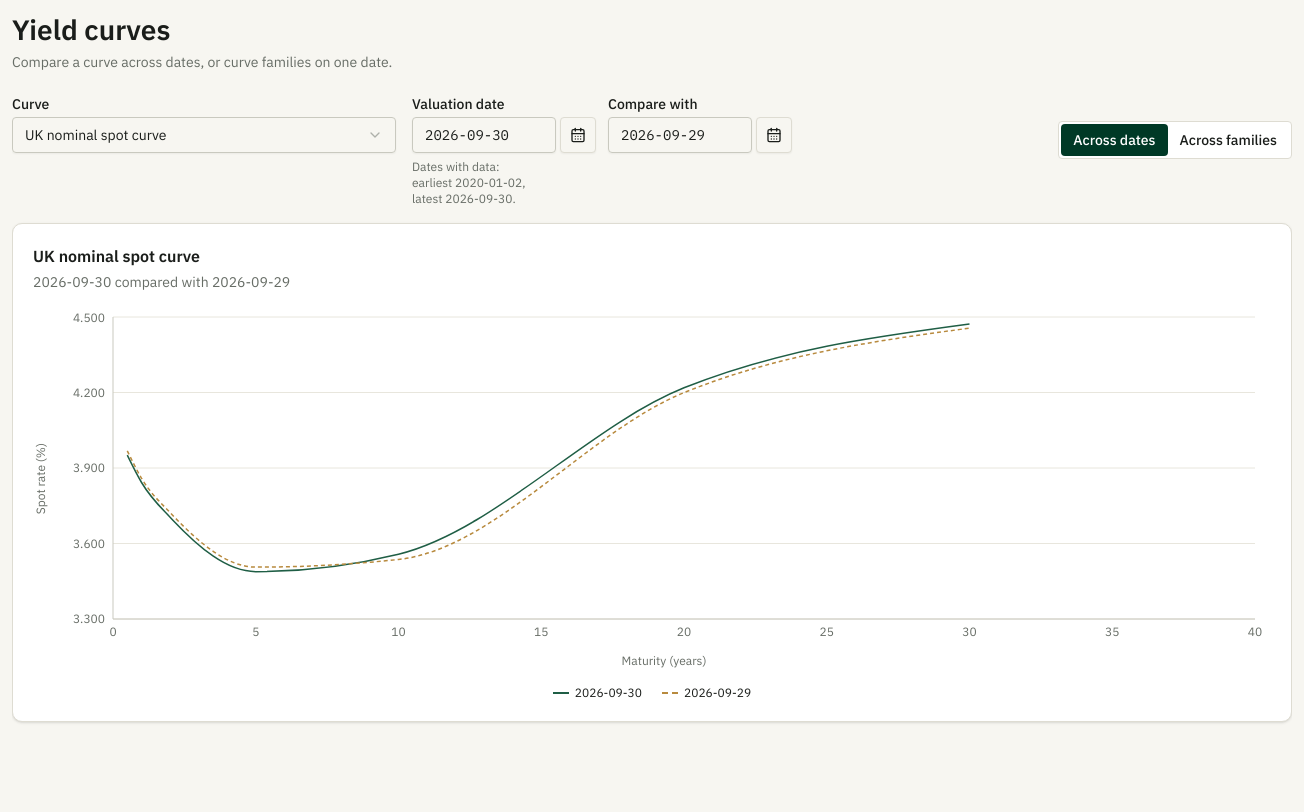
Test: Epic overview-and-yield-curves, Story 4: Yield curves across families › hides Compare with and draws the Nominal, Real, Inflation and OIS curves of the same rate type and segment, named by family in order
The width and height of the screenshot is (1304, 812).
Check: the field labelled "Compare with" is shown, box x1=608 y1=117 x2=752 y2=153
Check: the dropdown labelled "curve" reads "UK nominal spot curve", box x1=12 y1=117 x2=396 y2=153
Click the button "Across families".
click(1228, 140)  # box x1=1168 y1=124 x2=1289 y2=156
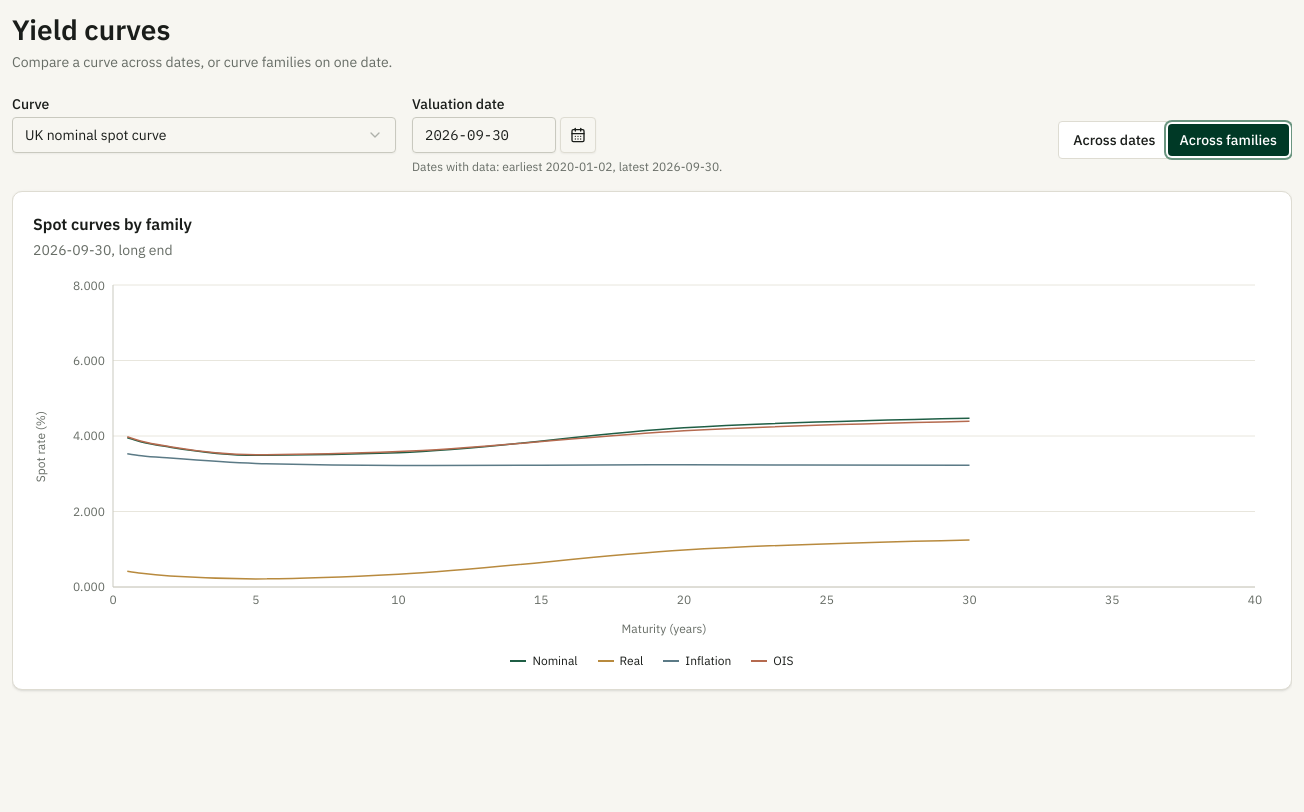
Check: the dropdown labelled "curve" reads "UK nominal spot curve", box x1=12 y1=117 x2=396 y2=153
Check: the label labelled "Compare with" is gone
